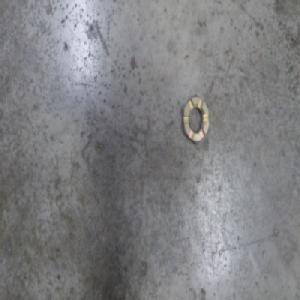Nut: (181, 93, 209, 147)
